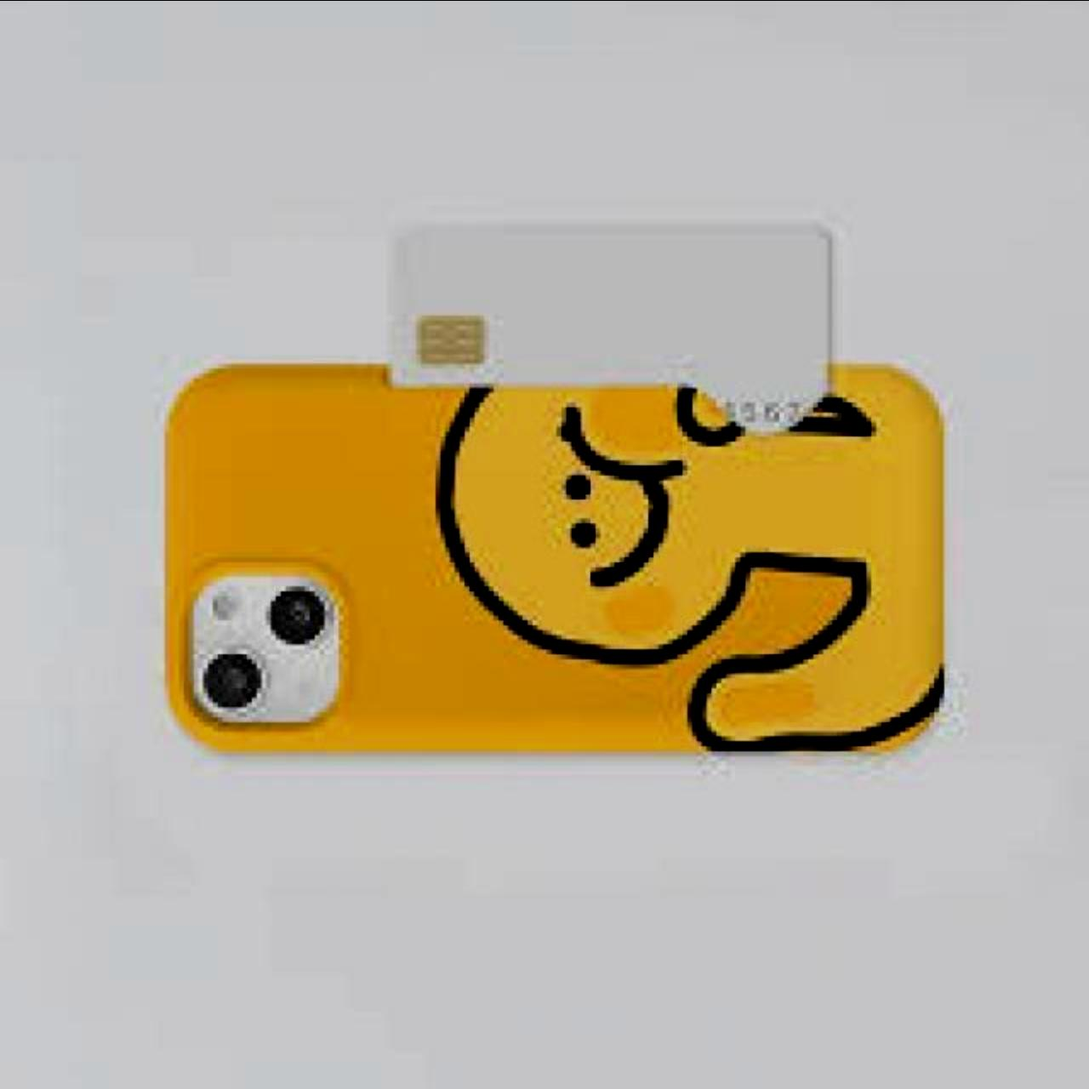phone: (160, 347, 965, 761)
